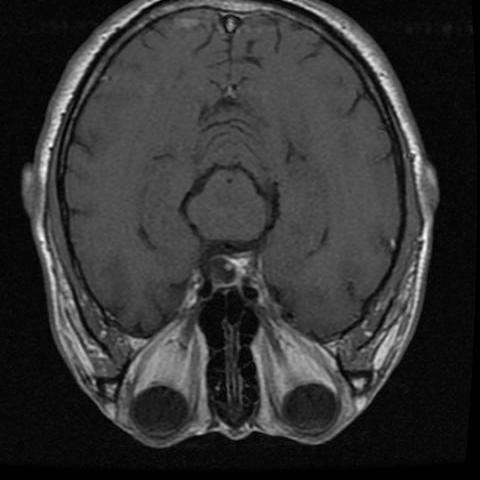Tumour-Pituitary: (178, 240, 289, 297)
